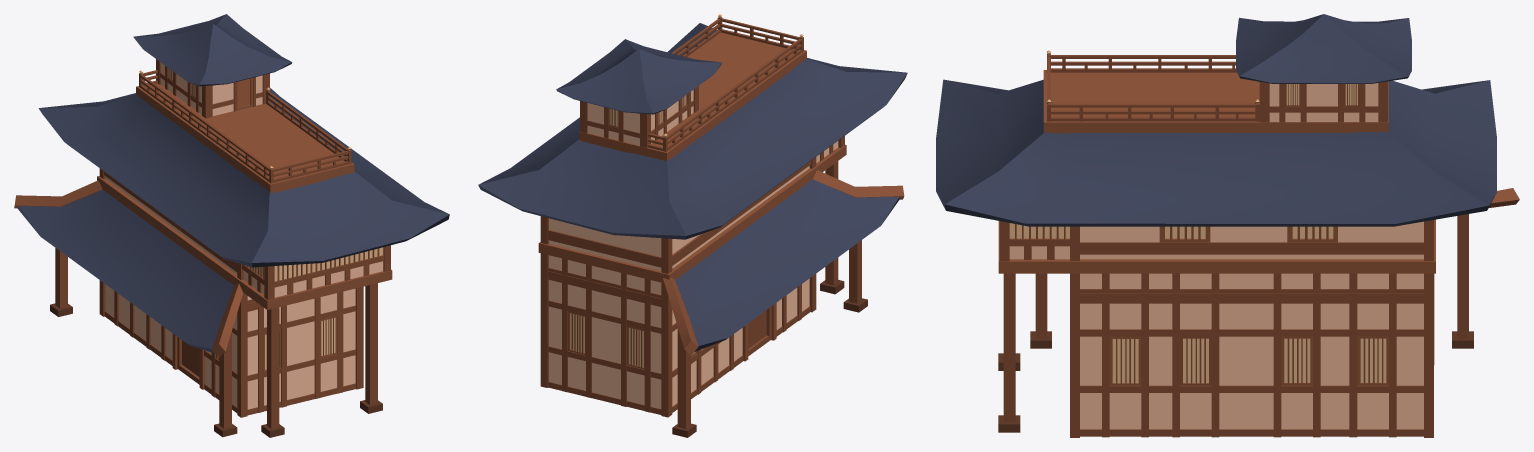
The model's file is houme018_1.fbx.
The picture shows the model from 3 angles, left to right: view 1: azimuth 30°, elevation 25°; view 2: azimuth 150°, elevation 25°; view 3: azimuth 270°, elevation 25°; orthographic projection. The views are drawn at different scales.
Visible parts, largest first — view 1: houme18_1, fence_18_1_1; view 2: houme18_1, fence_18_1_1; view 3: houme18_1, fence_18_1_1.
Boxes of the visible parts, x1=… form: houme18_1: x1=14, y1=14, x2=449, y2=437; fence_18_1_1: x1=139, y1=70, x2=351, y2=183; houme18_1: x1=478, y1=23, x2=907, y2=437; fence_18_1_1: x1=647, y1=14, x2=803, y2=151; houme18_1: x1=936, y1=14, x2=1519, y2=437; fence_18_1_1: x1=1047, y1=50, x2=1259, y2=121.
Size of the model in its own units: 1268 by 1646 by 2223.
